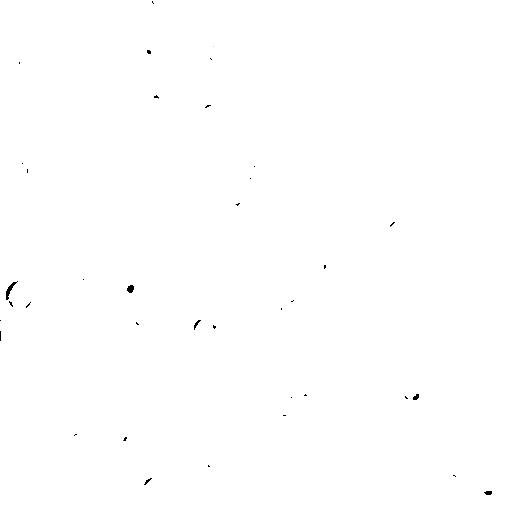micro-algae: (275, 0, 336, 26), (174, 12, 207, 47), (113, 271, 149, 303), (394, 376, 427, 409), (36, 25, 72, 55), (5, 277, 35, 312), (217, 181, 249, 212), (459, 57, 490, 88), (310, 247, 339, 279), (443, 456, 474, 485), (195, 445, 227, 473), (467, 477, 502, 502), (136, 33, 167, 60), (4, 48, 31, 77), (307, 274, 334, 299), (191, 117, 220, 140), (53, 459, 75, 489), (279, 296, 304, 321), (141, 473, 165, 499), (291, 381, 322, 401), (345, 461, 371, 484), (276, 393, 303, 415), (192, 316, 215, 341), (201, 101, 226, 123), (206, 42, 229, 65), (432, 142, 456, 164), (384, 216, 406, 240), (248, 380, 270, 404), (384, 90, 404, 113), (109, 423, 129, 446), (1, 325, 18, 347), (148, 373, 166, 393), (132, 308, 150, 327), (441, 0, 472, 11), (75, 0, 97, 13), (400, 0, 423, 12), (242, 163, 261, 177), (235, 0, 267, 8), (151, 316, 167, 332), (151, 1, 171, 13), (18, 161, 31, 179), (70, 431, 84, 447), (77, 270, 90, 283)
